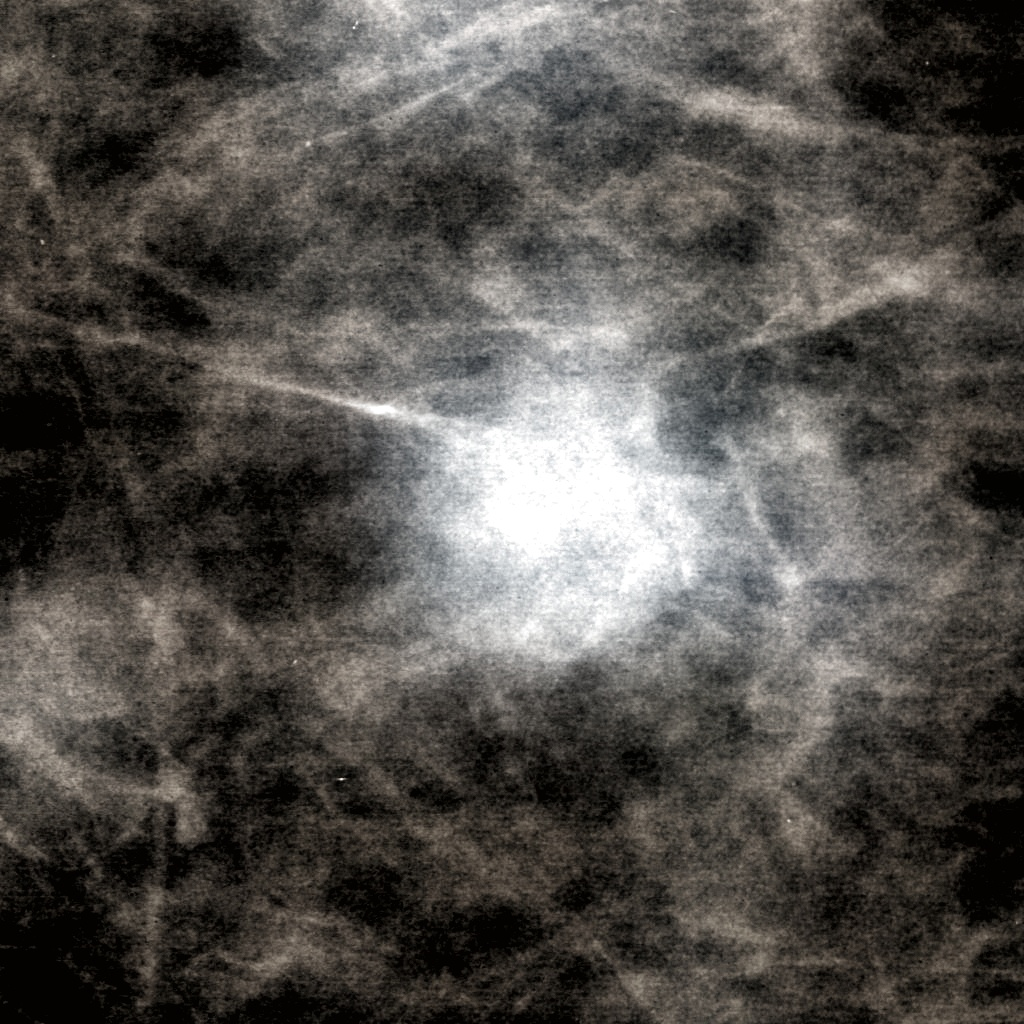tumor: (381, 382, 643, 642)
